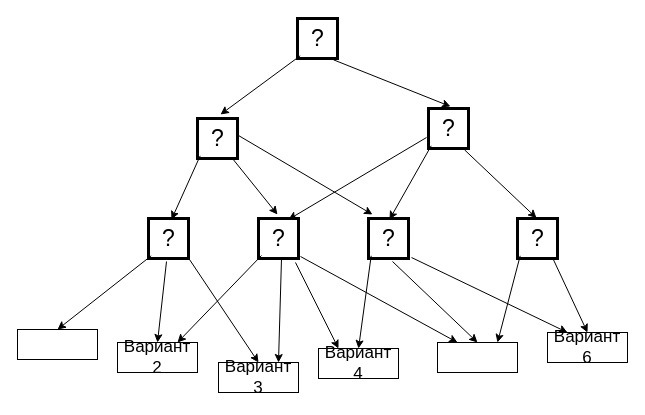
Some shapes in this 645 by 415 pixel diagram are drawn without their labels. Here are the shapes that lost their labels. From the top down, the centre of each, then its label:
(57,344): Вариант 1
(477,357): Вариант 5
